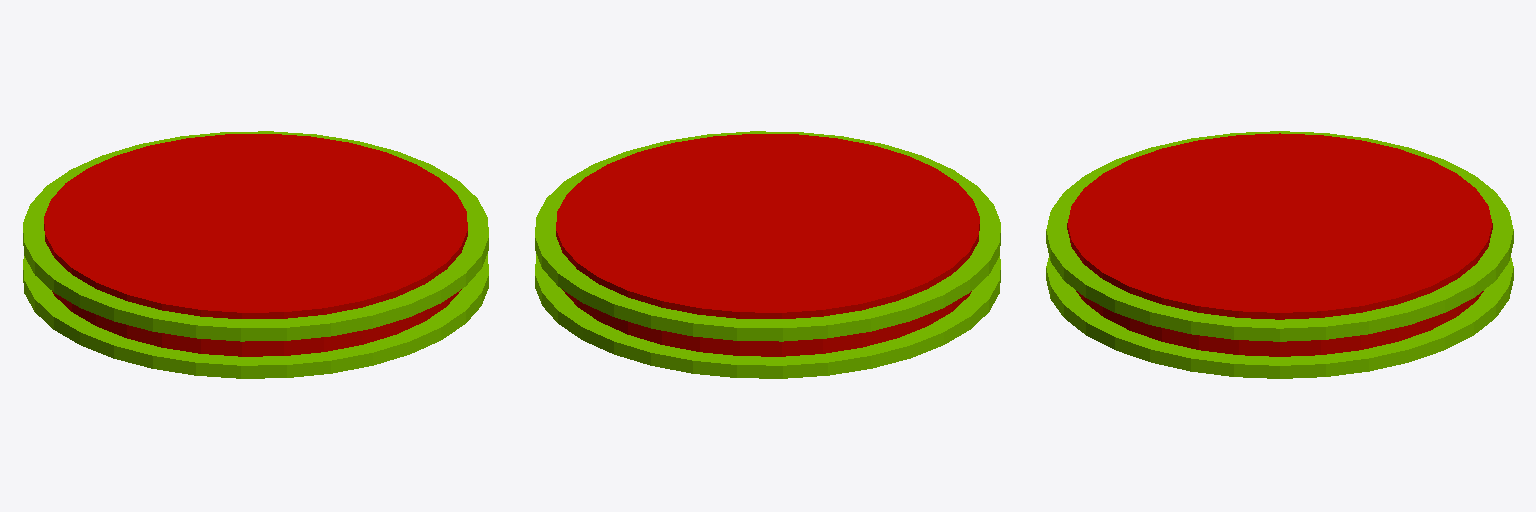
File: TeleportPad.obj
3 views of the same model, side by side, from view 1: azimuth 30°, elevation 25°; view 2: azimuth 150°, elevation 25°; view 3: azimuth 270°, elevation 25° (orthographic).
Parts seen in each view (by area): view 1: Cylinder, Cylinder.001, Cylinder.002_Cylinder.003; view 2: Cylinder, Cylinder.001, Cylinder.002_Cylinder.003; view 3: Cylinder, Cylinder.001, Cylinder.002_Cylinder.003.
Part boxes in pixels (x1,y1,x2,y2): Cylinder: (44,134,467,356); Cylinder.001: (23,131,488,341); Cylinder.002_Cylinder.003: (23,254,488,378); Cylinder: (556,134,979,356); Cylinder.001: (535,131,1000,341); Cylinder.002_Cylinder.003: (535,254,1000,378); Cylinder: (1067,133,1492,356); Cylinder.001: (1046,131,1513,341); Cylinder.002_Cylinder.003: (1046,257,1513,378).
Size of the model in its own units: 2.2 by 0.3401 by 2.2.